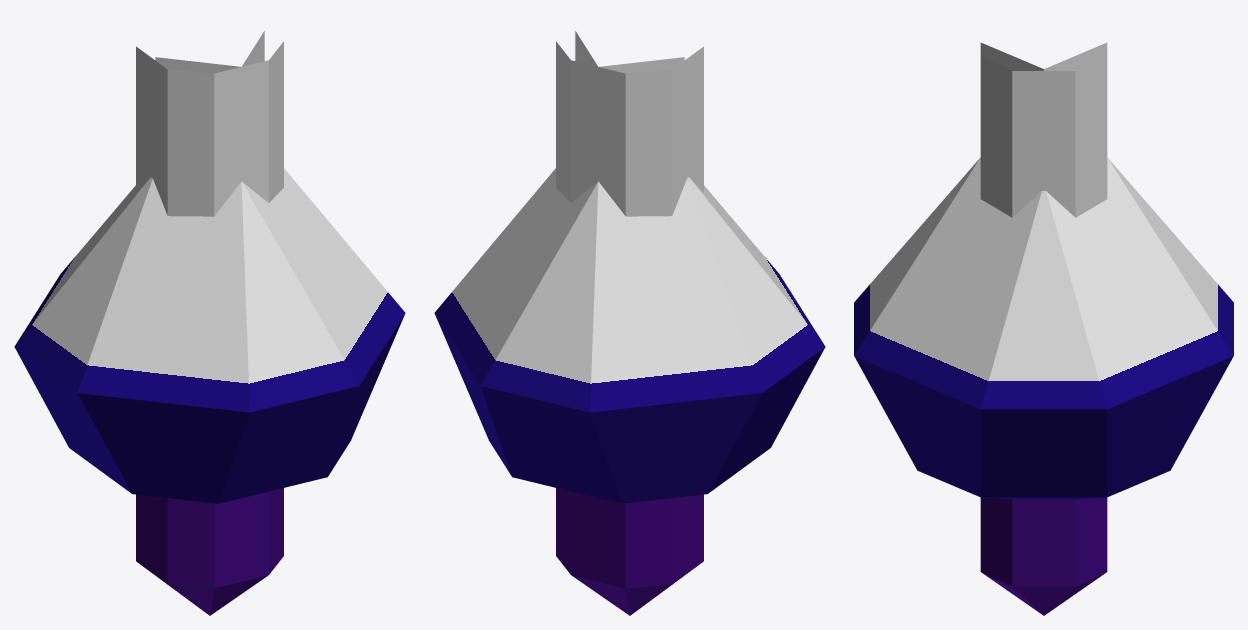
The model's file is flasks_and_tubes.glb.
The picture shows the model from 3 angles, left to right: view 1: azimuth 30°, elevation 25°; view 2: azimuth 150°, elevation 25°; view 3: azimuth 270°, elevation 25°; orthographic projection.
Visible parts, largest first — view 1: Mesh_0.009, Mesh_0.011; view 2: Mesh_0.009, Mesh_0.011; view 3: Mesh_0.009, Mesh_0.011.
Part boxes in pixels (<box>): Mesh_0.009: <box>14,31,405,503</box>; Mesh_0.011: <box>136,41,283,615</box>; Mesh_0.009: <box>434,31,825,503</box>; Mesh_0.011: <box>556,41,703,615</box>; Mesh_0.009: <box>854,42,1233,499</box>; Mesh_0.011: <box>980,56,1107,615</box>.
Bounding box in the file's own units: 1.5 × 2.5 × 1.5.
Materials: 12 (12 with a texture image).
